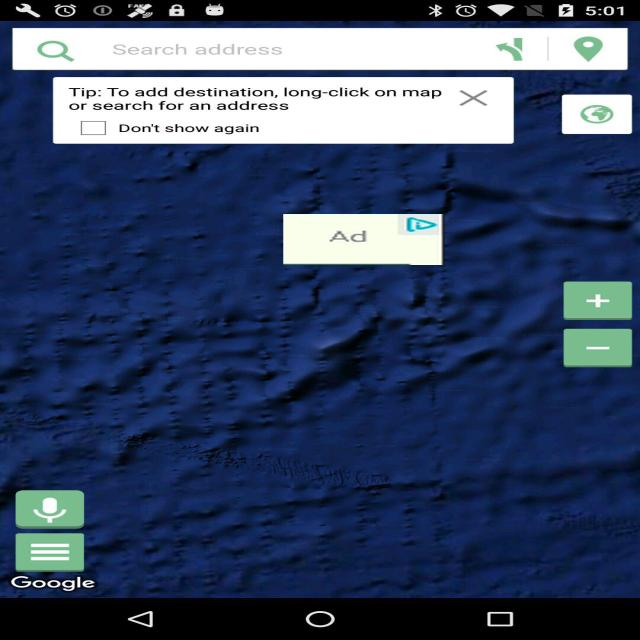sneaking: (284, 214, 444, 265)
